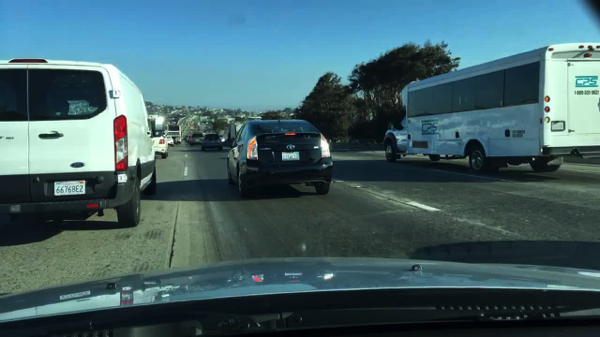car: (1, 57, 157, 228), (226, 118, 333, 195), (150, 129, 169, 159), (201, 134, 223, 151), (191, 133, 204, 147), (357, 140, 376, 145), (166, 136, 174, 147), (219, 134, 225, 145), (204, 128, 214, 134), (207, 123, 214, 130), (184, 135, 190, 143), (186, 135, 192, 143), (195, 127, 201, 132), (204, 123, 209, 128), (195, 125, 201, 129), (181, 133, 184, 141), (189, 122, 194, 126), (195, 121, 200, 125), (190, 128, 195, 130)
truck: (384, 42, 598, 176), (227, 124, 246, 148), (166, 125, 181, 144)
